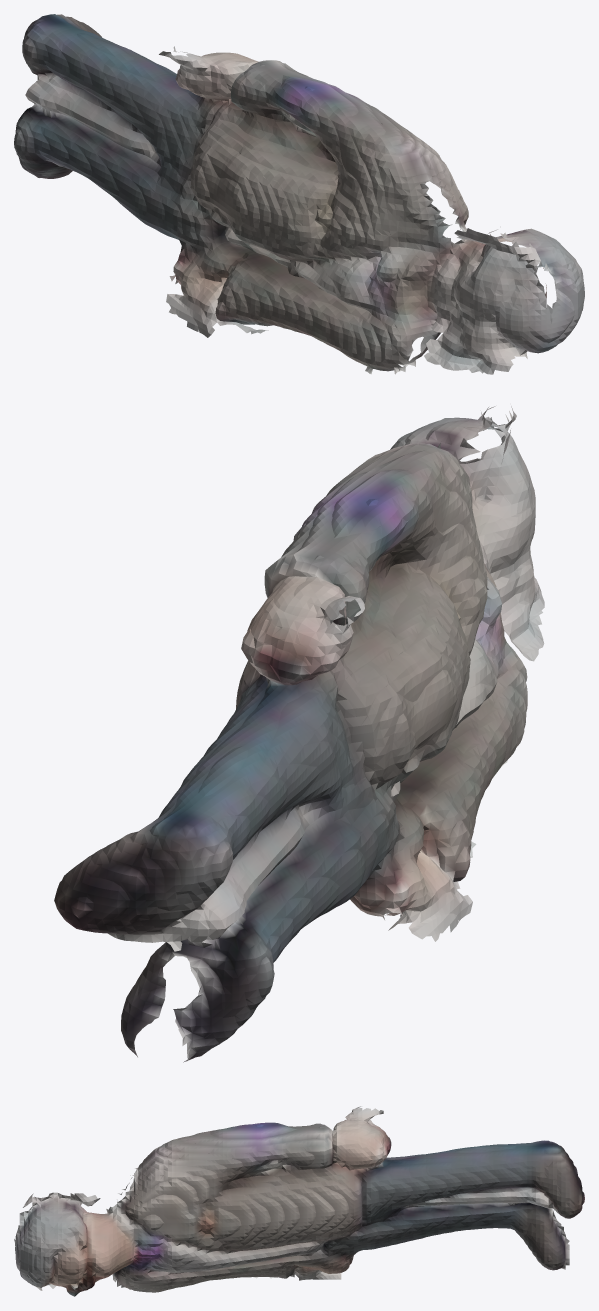
File: professor.glb
3 views of the same model, one above another, from view 1: azimuth 30°, elevation 25°; view 2: azimuth 150°, elevation 25°; view 3: azimuth 270°, elevation 25° (orthographic). The views are drawn at different scales.
Parts seen in each view (by area): view 1: world; view 2: world; view 3: world.
Part boxes in pixels (<box>): world: <box>14,14,584,374</box>; world: <box>54,406,544,1062</box>; world: <box>14,1106,584,1296</box>.
Bounding box in the file's own units: 0.3387 × 0.3225 × 0.9209.
